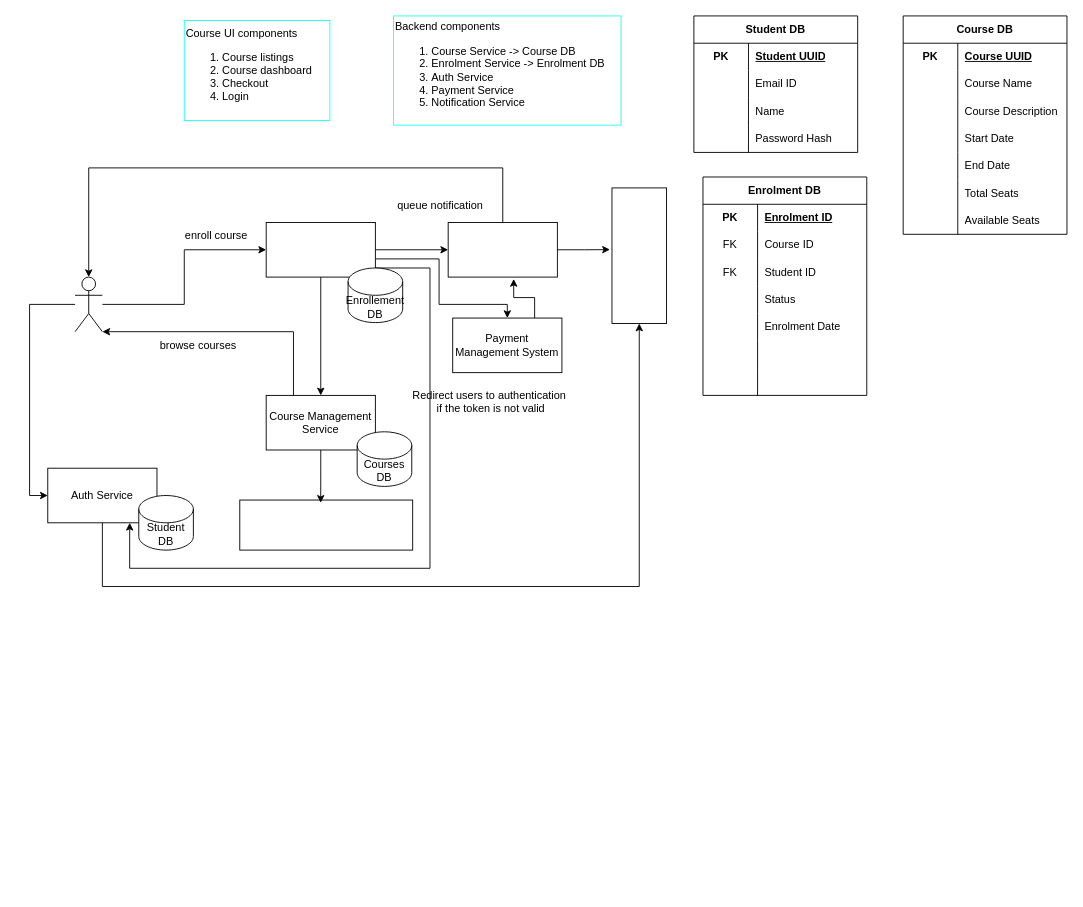
This 1083x907 diagram has some shape labels left out. Here are the shapes that lost their labels. From the top down, the centre of each, then its label:
the point at 320,249: Enrollment Service
the point at 502,249: Notification System
the point at 639,255: Services like twilio or SES for sending messages
the point at 88,304: Actor
the point at 326,524: External services taking care of creating meeting IDs
